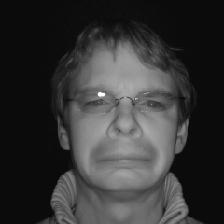sad: (41, 24, 203, 190)
